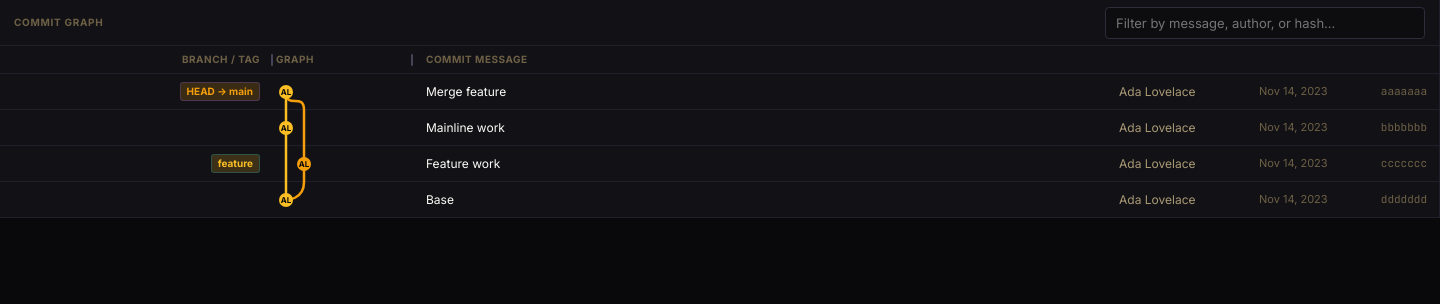
CommitGraph › context menu › opens on right-click over a commit
Right-click the text "Feature work" at {"x": 463, "y": 163}, box [426,156,500,170]
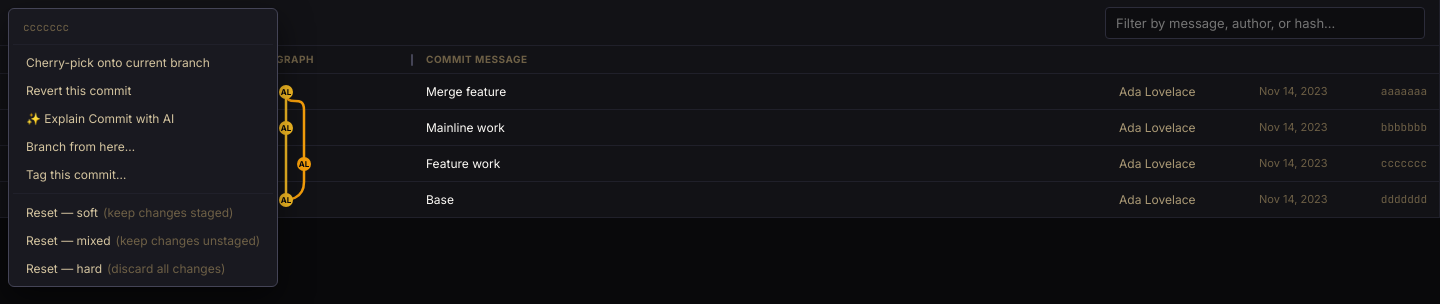
expect the menu is shown: met, box [8,8,278,286]
expect the menu item "Cherry-pick onto current branch" is shown: met, box [13,48,273,76]
